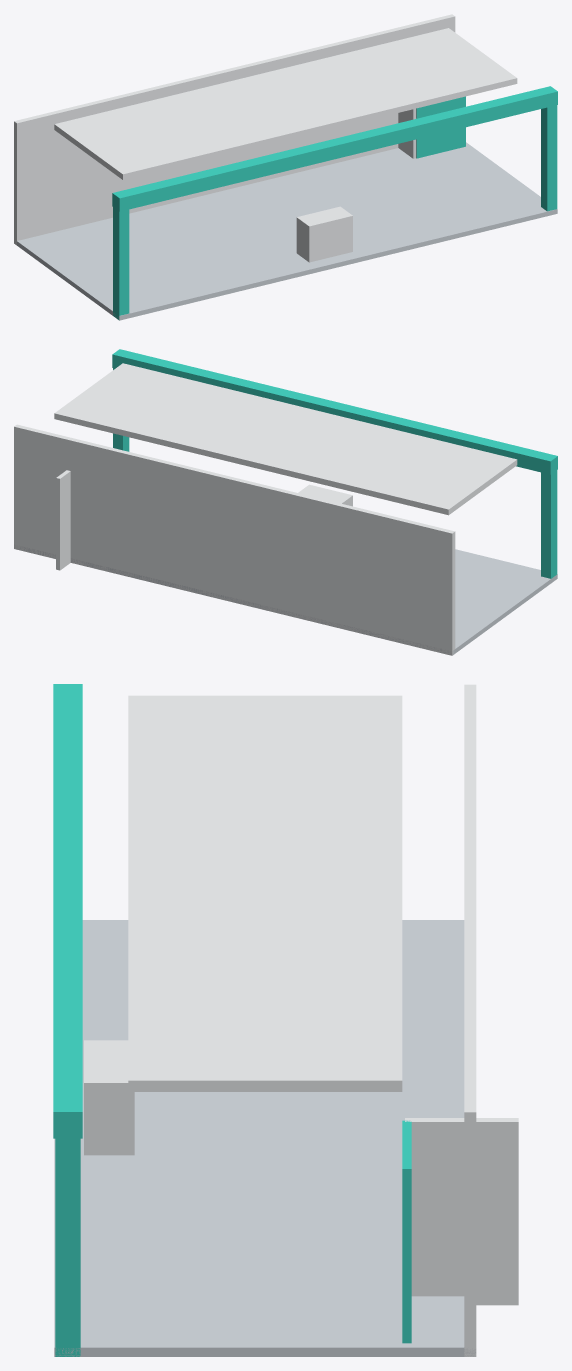
3 renders of one model, top to bottom at view 1: azimuth 30°, elevation 25°; view 2: azimuth 150°, elevation 25°; view 3: azimuth 270°, elevation 25°, orthographic. The views are drawn at different scales.
Visible parts, largest first — view 1: Exhibition Booth Concept; view 2: Exhibition Booth Concept; view 3: Exhibition Booth Concept.
Boxes of the visible parts, x1=… form: Exhibition Booth Concept: x1=14, y1=14, x2=557, y2=320; Exhibition Booth Concept: x1=14, y1=349, x2=557, y2=655; Exhibition Booth Concept: x1=53, y1=684, x2=518, y2=1356.
Size of the model in its own units: 12 by 3.34 by 5.52.
